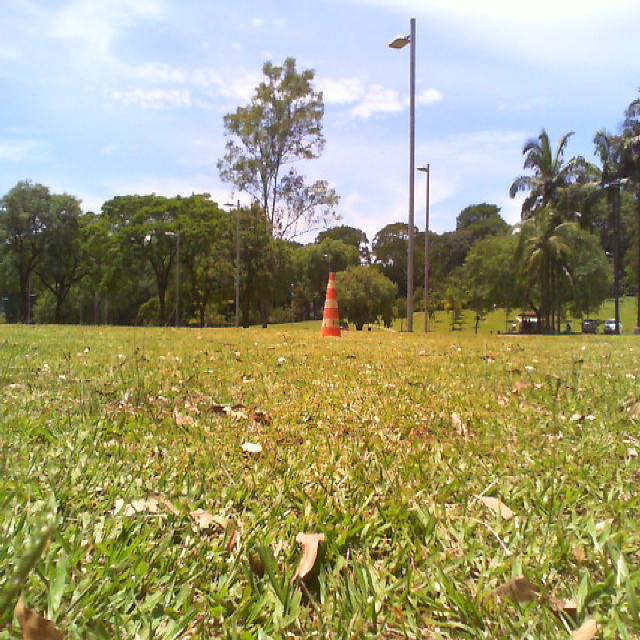cone: (320, 272, 342, 340)
